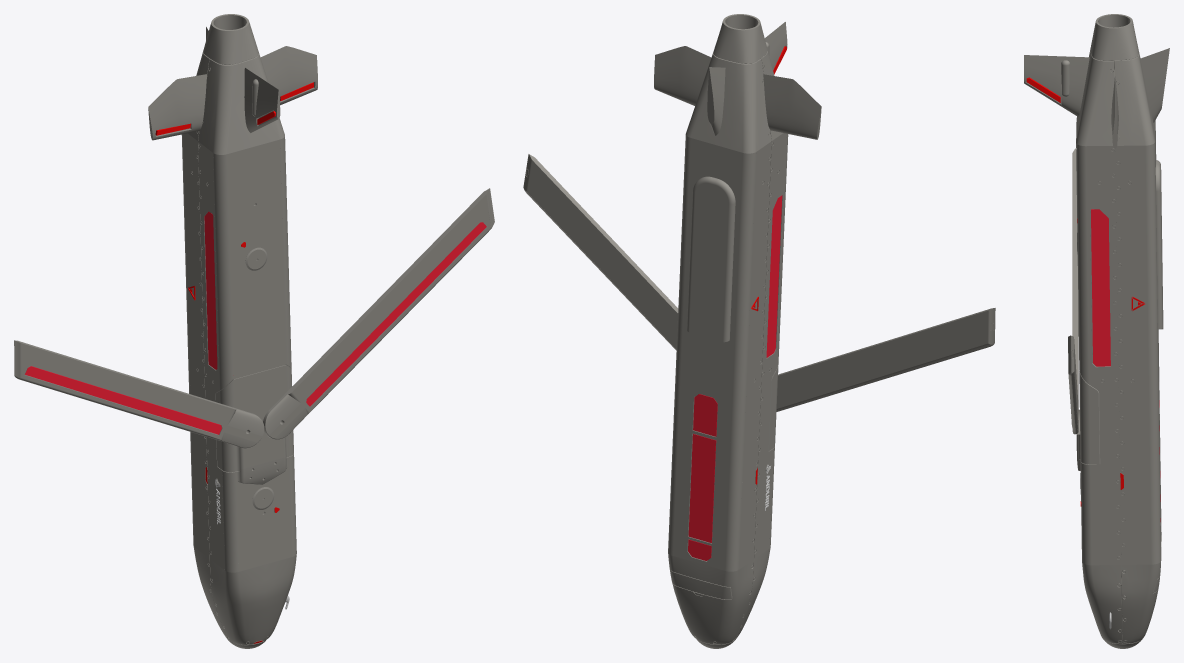
The picture shows the model from 3 angles, left to right: view 1: azimuth 30°, elevation 25°; view 2: azimuth 150°, elevation 25°; view 3: azimuth 270°, elevation 25°; orthographic projection. The views are drawn at different scales.
Visible parts, largest first — view 1: Part 1 (×7), Part 2 (×2); view 2: Part 1 (×5), Part 2 (×2), Part 4, Part 5; view 3: Part 1 (×6), Part 2 (×2).
Boxes of the visible parts, left/top/right/bottom form: Part 1 (×7): left=14, top=14, right=486, bottom=648; Part 2 (×2): left=204, top=188, right=494, bottom=439; Part 1 (×5): left=654, top=14, right=995, bottom=648; Part 2 (×2): left=523, top=154, right=782, bottom=357; Part 4: left=688, top=434, right=716, bottom=542; Part 5: left=693, top=394, right=717, bottom=436; Part 1 (×6): left=1024, top=14, right=1169, bottom=648; Part 2 (×2): left=1068, top=209, right=1110, bottom=434.
Bounding box in the file's own units: 0.1726 × 0.2182 × 0.0468.
